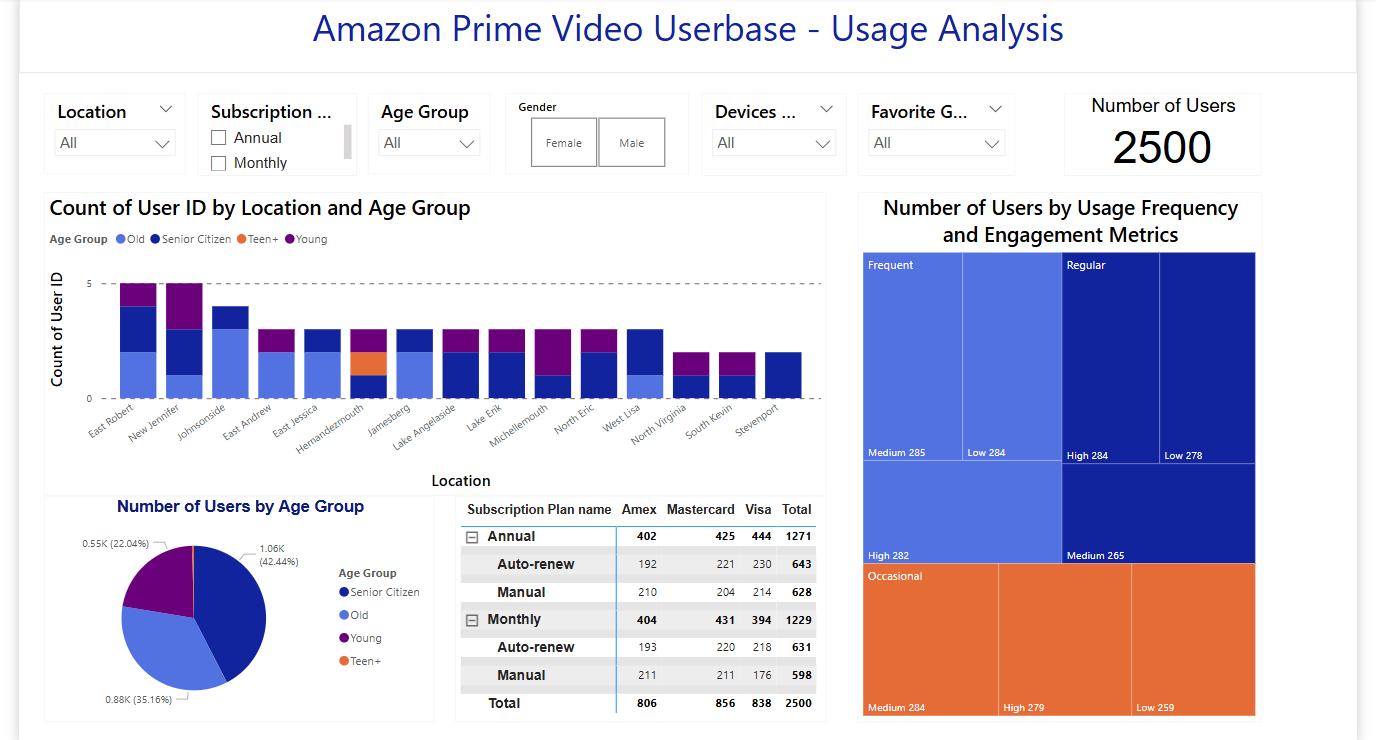

The dashboard page shown, as its layout file describes it:
{"tool":"powerbi","page":{"name":"User & Usage Details","canvas":[1400,780],"ordinal":0},"visuals":[{"type":"lineStackedColumnComboChart","fields":{"Category":["users.Location"],"Y":["CountNonNull(users.User ID)"],"Series":["users.Age Group"]},"box":[26.1,203.9,818.2,317.6],"z":0},{"type":"pieChart","title":"Number of Users by Age Group","fields":{"Y":["CountNonNull(users.User ID)"],"Category":["users.Age Group"]},"box":[26.1,521.5,409.1,236.6],"z":2000},{"type":"textbox","box":[0,0,1399.8,79.7],"z":5000},{"type":"card","title":"Number of Users","fields":{"Values":["CountNonNull(Amazon Prime Video user Data.User ID)"]},"box":[1092.6,100.6,206.5,86.3],"z":6000},{"type":"slicer","fields":{"Values":["users.Age Group"]},"box":[365,100,128.3,85],"z":7000},{"type":"treemap","title":"Number of Users by Usage Frequency and Engagement Metrics","fields":{"Group":["Prime Video platform Information.Usage Frequency"],"Values":["CountNonNull(Prime Video platform Information.User ID)"],"Details":["Prime Video platform Information.Engagement Metrics"]},"box":[877,203.9,422.2,554.2],"z":8000},{"type":"slicer","fields":{"Values":["Prime Video platform Information.Subscription Plan"]},"box":[186.7,100,166.7,86.7],"z":9000},{"type":"slicer","fields":{"Values":["users.Location"]},"box":[26.7,100,148.3,85],"z":10000},{"type":"slicer","fields":{"Values":["users.Gender"]},"box":[508.3,100,191.7,85],"z":11000},{"type":"slicer","fields":{"Values":["Prime Video platform Information.Devices Used"]},"box":[713.3,100,151.7,86.7],"z":12000},{"type":"slicer","fields":{"Values":["Prime Video platform Information.Favorite Genres"]},"box":[876.7,100,165,86.7],"z":13000},{"type":"pivotTable","fields":{"Values":["CountNonNull(Payment Information.User ID)"],"Rows":["Payment Information.Subscription Plan name","Payment Information.Renewal Status"],"Columns":["Payment Information.Payment Information"]},"box":[456.1,521.5,388.2,236.6],"z":14000}]}

Visuals, with their boxes on the page's 1400x780 design canvas (x1, y1, x2, y2). These are canvas units, not pixel positions in the 1376x740 screenshot, which may show the page scaled, cropped or inside an application window:
lineStackedColumnComboChart - users.Location x CountNonNull(users.User ID): region(26, 204, 844, 522)
"Number of Users by Age Group" pieChart: region(26, 522, 435, 758)
textbox: region(0, 0, 1400, 80)
"Number of Users" card: region(1093, 101, 1299, 187)
slicer - users.Age Group: region(365, 100, 493, 185)
"Number of Users by Usage Frequency and Engagement Metrics" treemap: region(877, 204, 1299, 758)
slicer - Prime Video platform Information.Subscription Plan: region(187, 100, 353, 187)
slicer - users.Location: region(27, 100, 175, 185)
slicer - users.Gender: region(508, 100, 700, 185)
slicer - Prime Video platform Information.Devices Used: region(713, 100, 865, 187)
slicer - Prime Video platform Information.Favorite Genres: region(877, 100, 1042, 187)
pivotTable - CountNonNull(Payment Information.User ID) x Payment Information.Subscription Plan name: region(456, 522, 844, 758)
